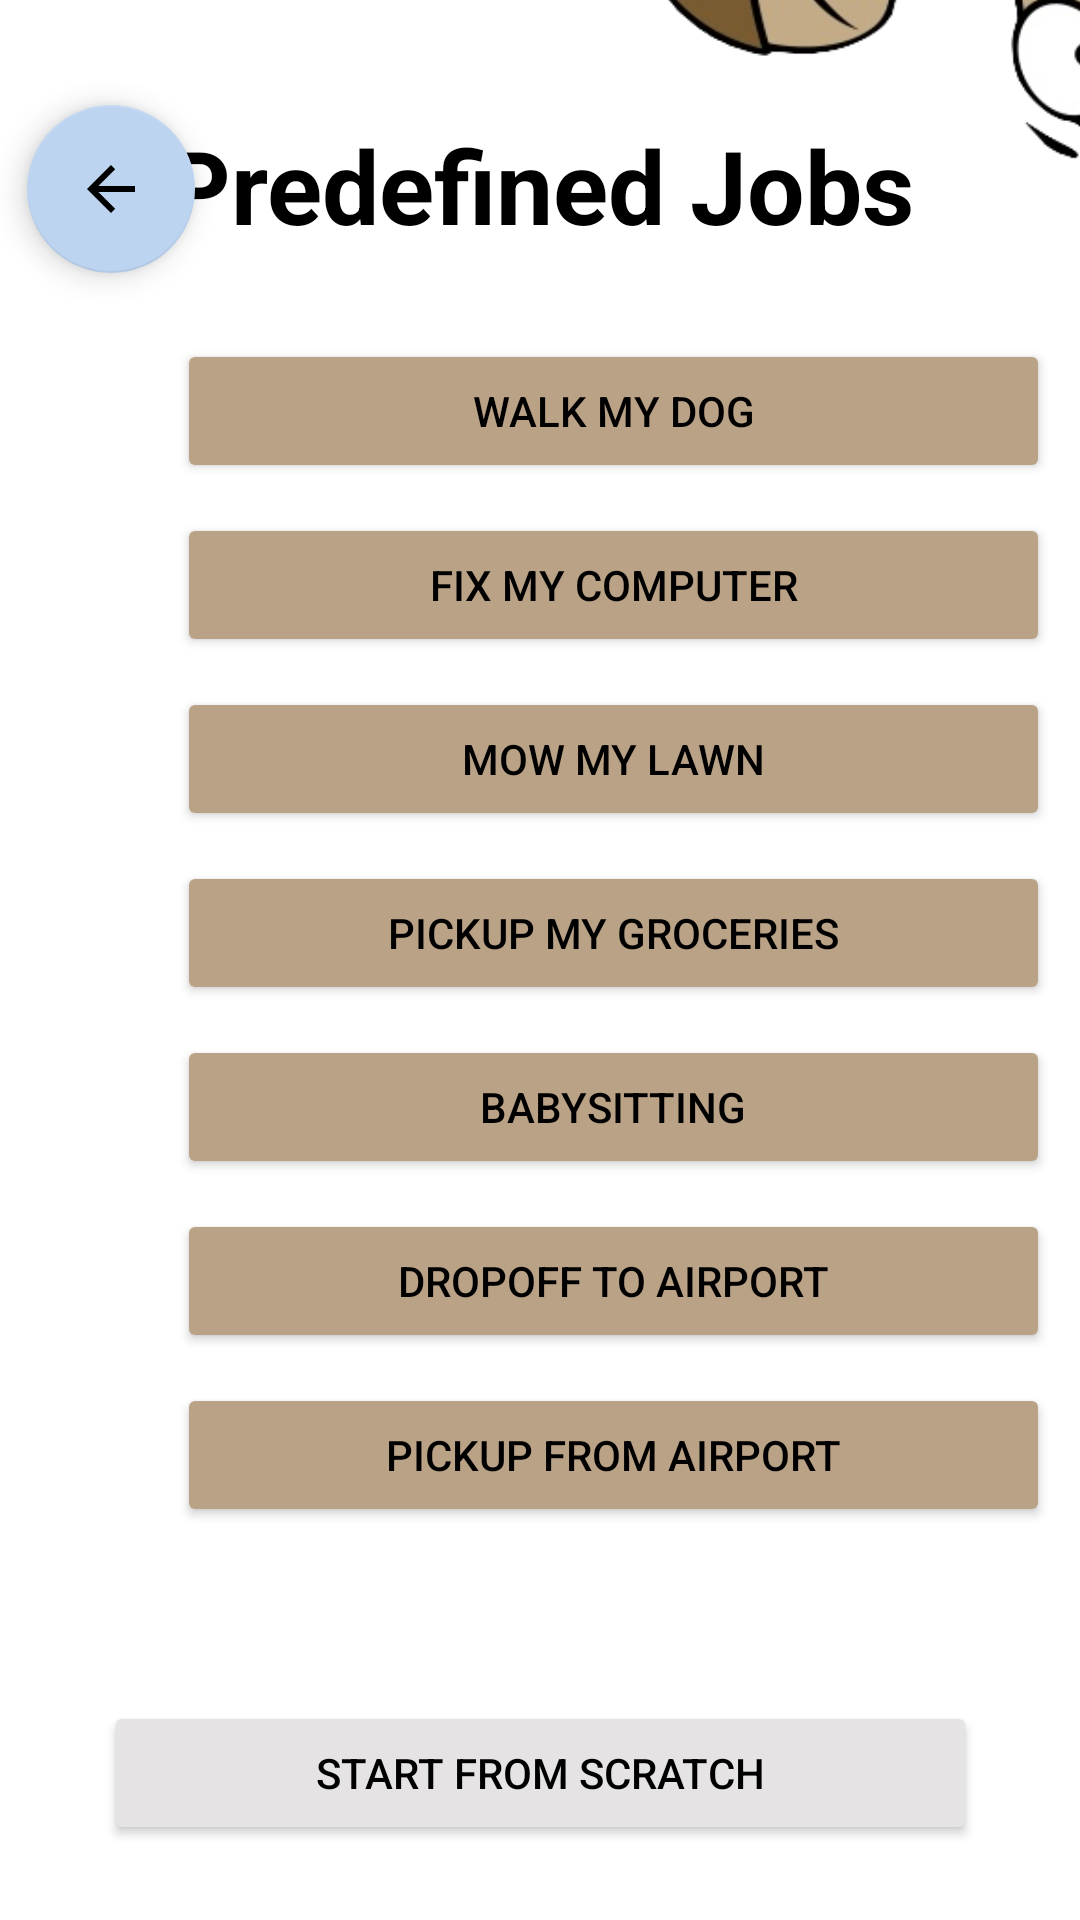

Icons on this 1080w x 1920h Android screen, each with its box as (x1, y1, x2, y2):
Back Button: (27, 105, 195, 273)
